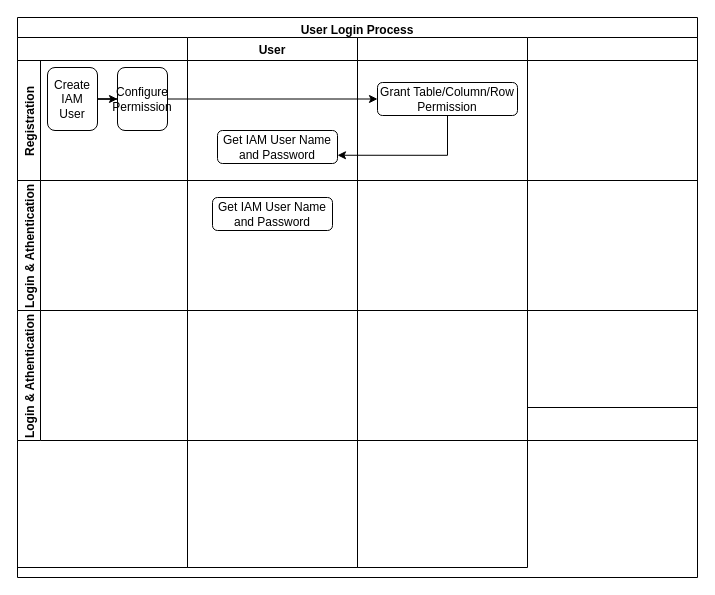
The diagram is 715 pixels wide and 595 high, and some of its shapes have lost their labels. Each missing label, with the box of its shape:
Admin: (16, 36, 188, 568)
Athena: (526, 36, 698, 408)
Lakeformation: (356, 36, 528, 568)
